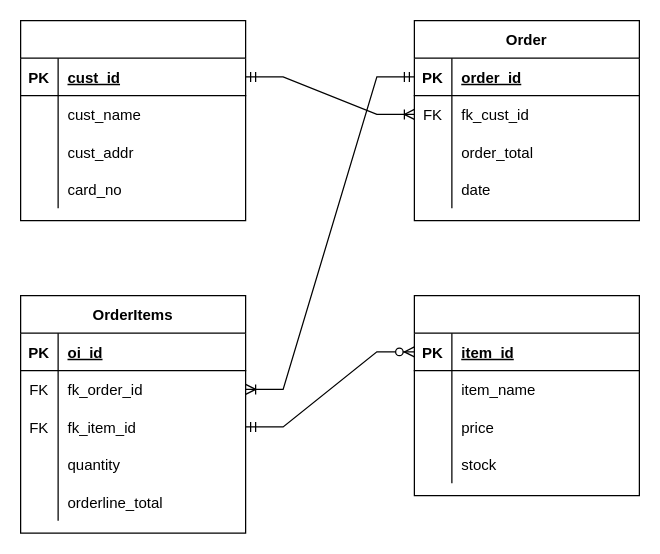
The diagram is 660 pixels wide and 554 high, and some of its shapes have lost their labels. The shapes that lost their labels are listed below. From the top down, each one's box as (x1, y1, x2, y2) in pixels, then its label:
(19, 19, 246, 221): Customer
(413, 294, 639, 496): Items
